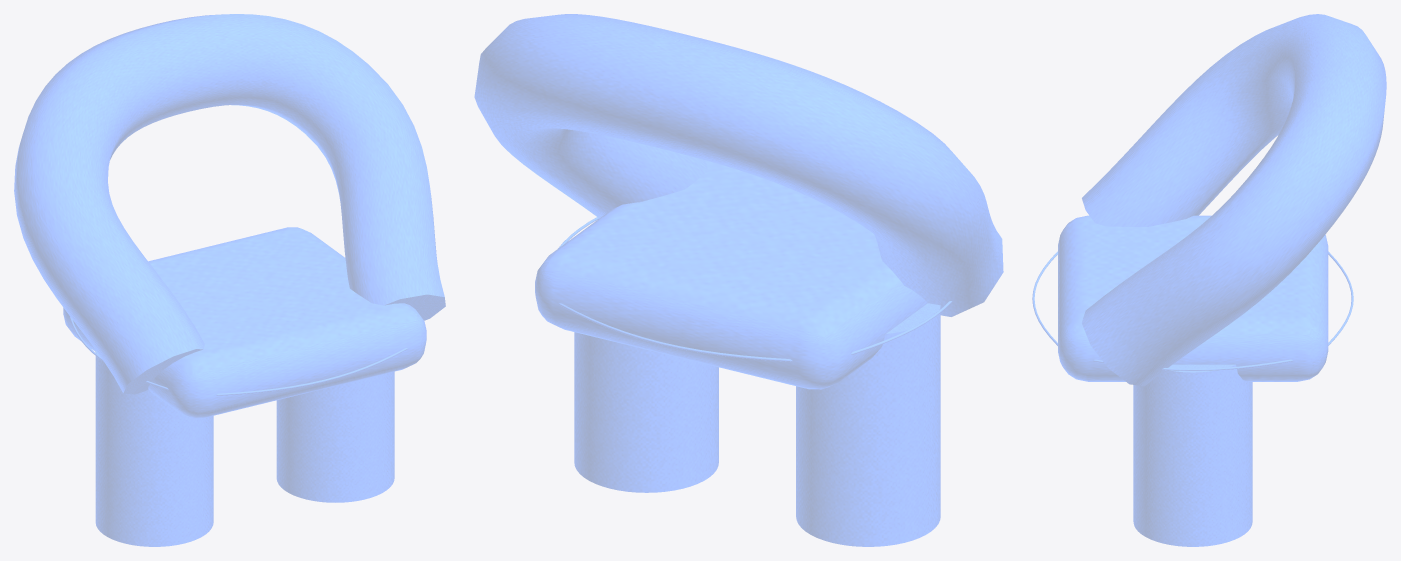
File: ref04_01.glb
3 views of the same model, side by side, from view 1: azimuth 30°, elevation 25°; view 2: azimuth 150°, elevation 25°; view 3: azimuth 270°, elevation 25° (orthographic). The views are drawn at different scales.
Visible parts, largest first — view 1: ref04_01; view 2: ref04_01; view 3: ref04_01.
Boxes of the visible parts, box(x1,y1,x2,y2) form: ref04_01: box(14, 14, 445, 546); ref04_01: box(474, 14, 1003, 546); ref04_01: box(1032, 14, 1386, 546).
Size of the model in its own units: 0.9836 by 1.02 by 0.7732.
Materials: 1 (1 with a texture image).
